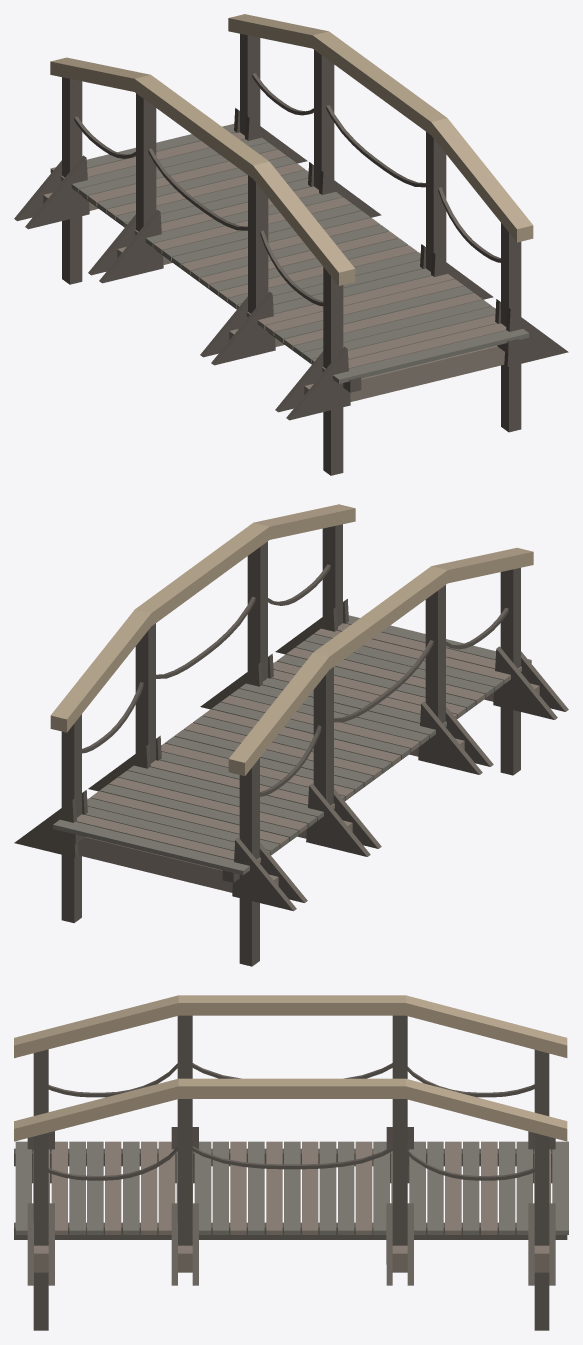
File: Bridge2.fbx
The picture shows the model from 3 angles, top to bottom: view 1: azimuth 30°, elevation 25°; view 2: azimuth 150°, elevation 25°; view 3: azimuth 270°, elevation 25°; orthographic projection. The views are drawn at different scales.
Visible parts, largest first — view 1: Cube.012; view 2: Cube.012; view 3: Cube.012.
Part boxes in pixels (box(x1,y1,x2,y2)): Cube.012: box(14, 14, 568, 475); Cube.012: box(14, 504, 568, 966); Cube.012: box(14, 995, 568, 1330).
Size of the model in its own units: 673 by 588 by 1206.
